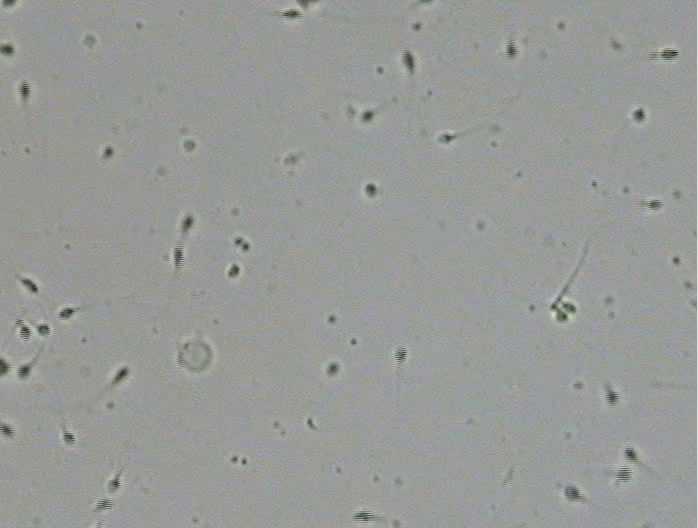Impurity: (176, 341, 212, 371), (82, 34, 96, 47)
S: (401, 49, 417, 71), (20, 277, 39, 294), (353, 511, 376, 523), (615, 466, 632, 482), (564, 485, 581, 501), (180, 215, 195, 233), (660, 48, 680, 61), (505, 40, 518, 59), (173, 246, 184, 267), (113, 367, 128, 382), (62, 429, 76, 445), (606, 390, 620, 406), (624, 446, 637, 463), (282, 8, 302, 19), (19, 81, 31, 99), (16, 364, 31, 378), (1, 423, 15, 438), (394, 346, 407, 362), (96, 498, 113, 510), (36, 323, 50, 337), (107, 479, 121, 493), (227, 263, 240, 278), (632, 108, 645, 123), (58, 307, 74, 319), (19, 325, 31, 341), (1, 43, 15, 56), (326, 362, 340, 375), (365, 183, 377, 198), (437, 133, 453, 144), (648, 199, 664, 210), (562, 302, 577, 313), (1, 358, 10, 376), (297, 1, 318, 8), (556, 310, 568, 322), (362, 110, 374, 121), (103, 147, 114, 158), (184, 141, 196, 151), (2, 1, 16, 8)
